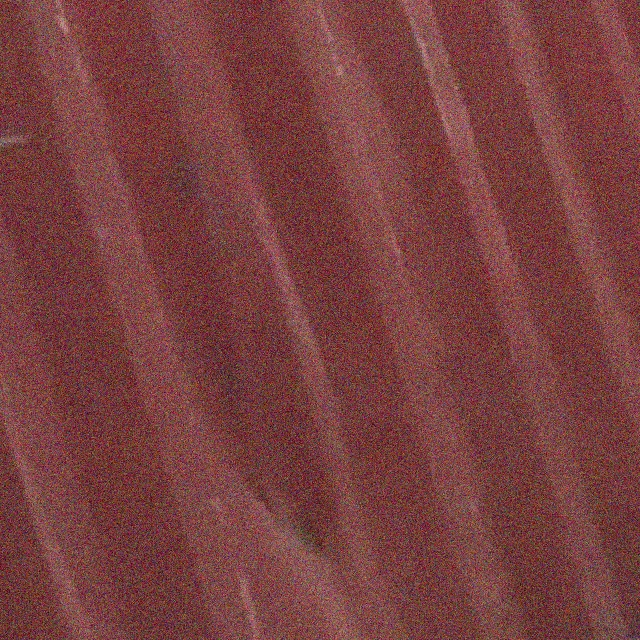Dent: (123, 233, 505, 640)
